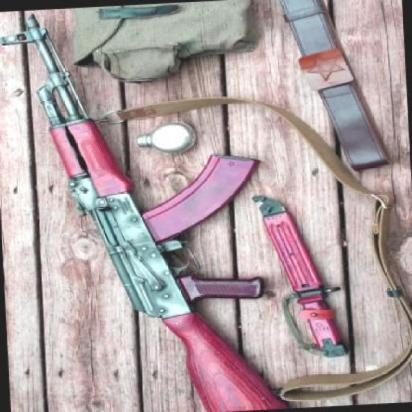Gun: (0, 0, 298, 412)
